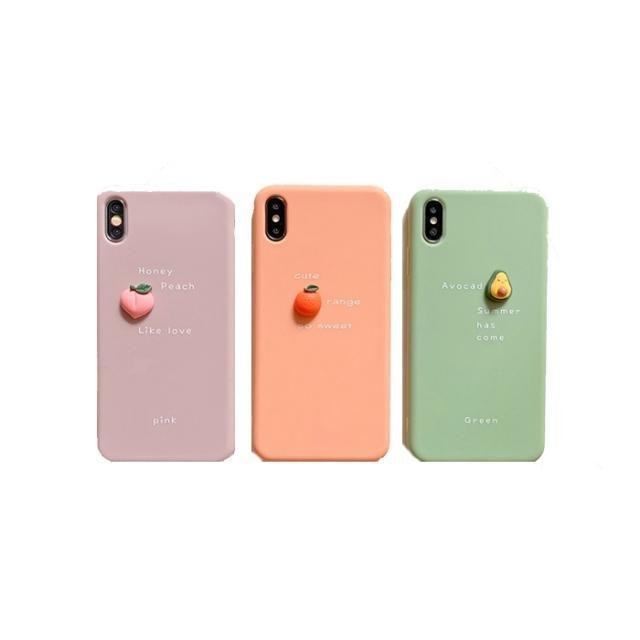phone: (250, 184, 390, 462), (96, 190, 237, 463), (408, 190, 546, 460)
